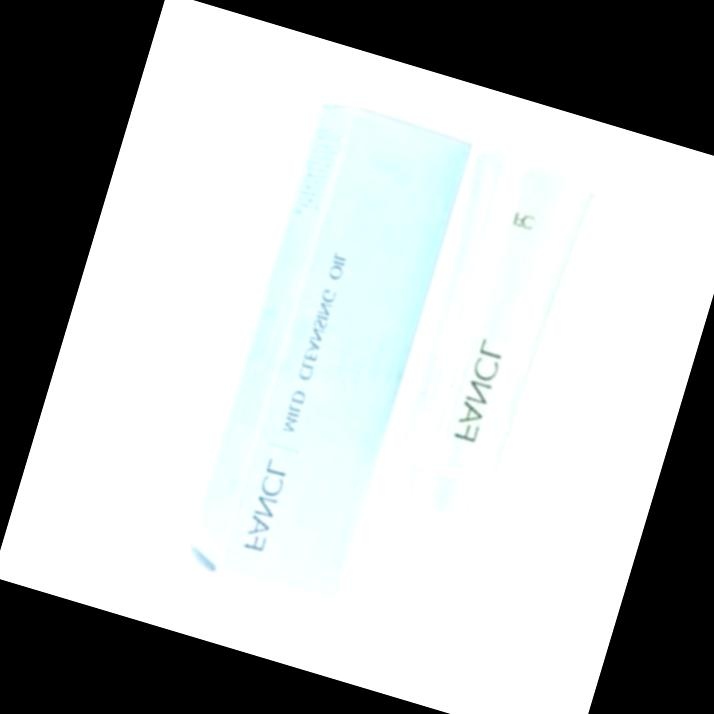cosmetic: (346, 152, 607, 629)
